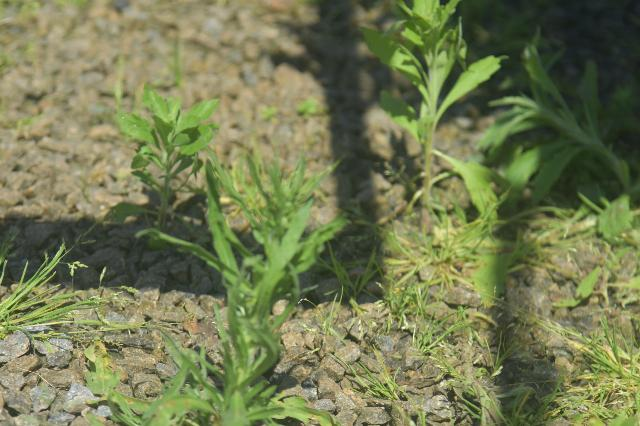MalezaMontesDelPlata: (157, 141, 360, 426), (369, 215, 537, 426), (476, 36, 640, 233), (365, 1, 511, 215), (112, 82, 221, 258), (0, 210, 117, 342), (547, 299, 640, 422), (319, 232, 325, 236)
